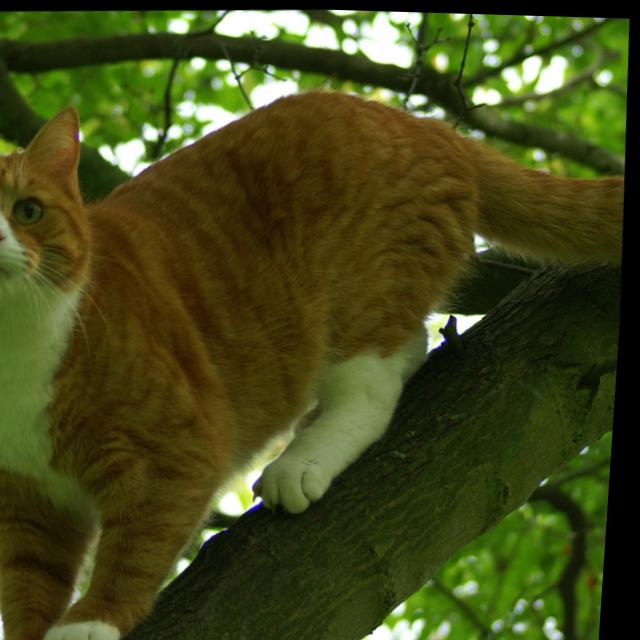animals: (0, 102, 85, 251)
